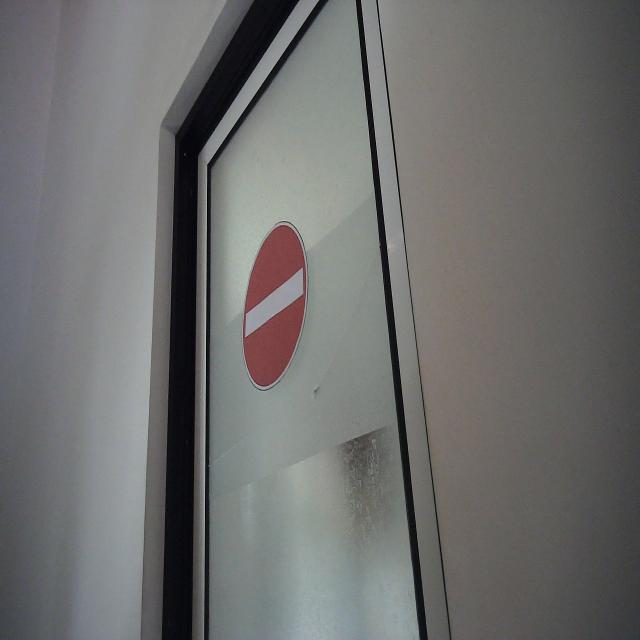no_entry: (240, 218, 310, 394)
